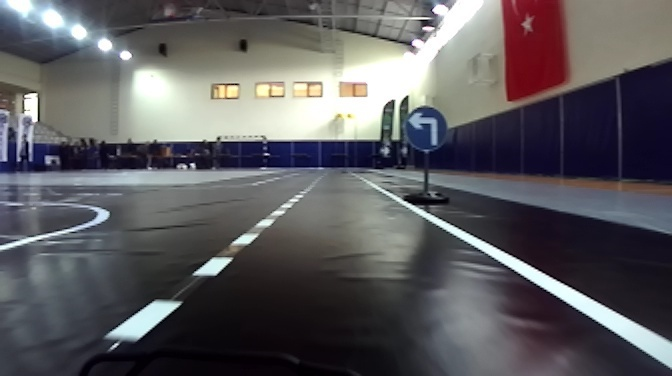sola_donus: (401, 105, 448, 149)
